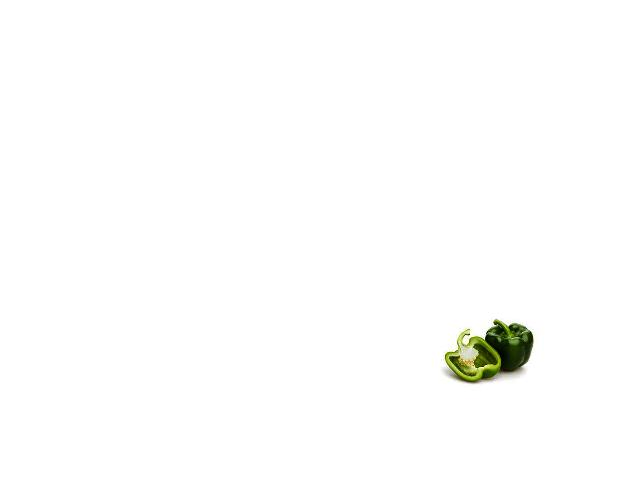bell_pepper: (442, 326, 503, 380)
